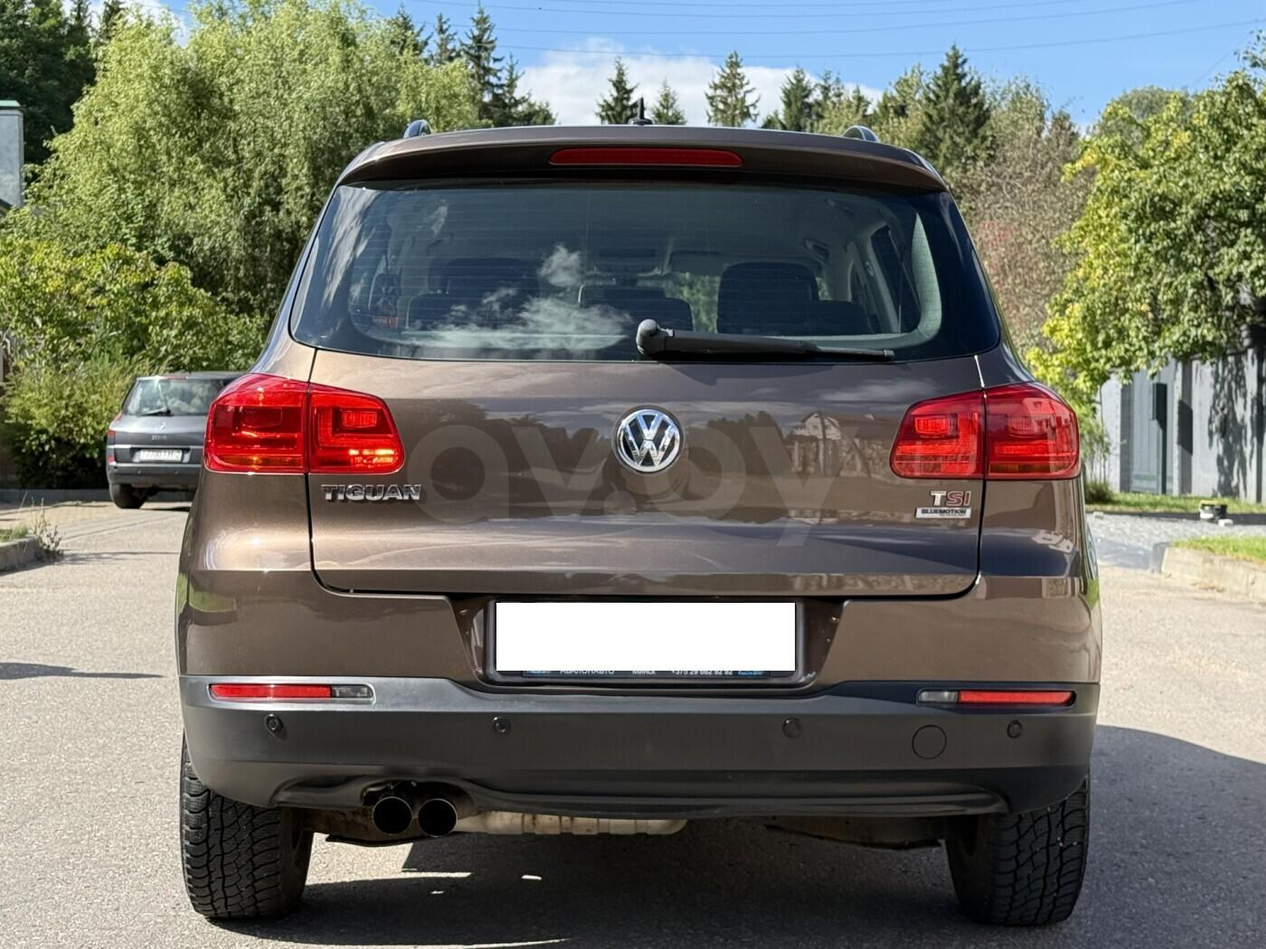Tiguan_2011-2018: (172, 120, 1103, 949)
